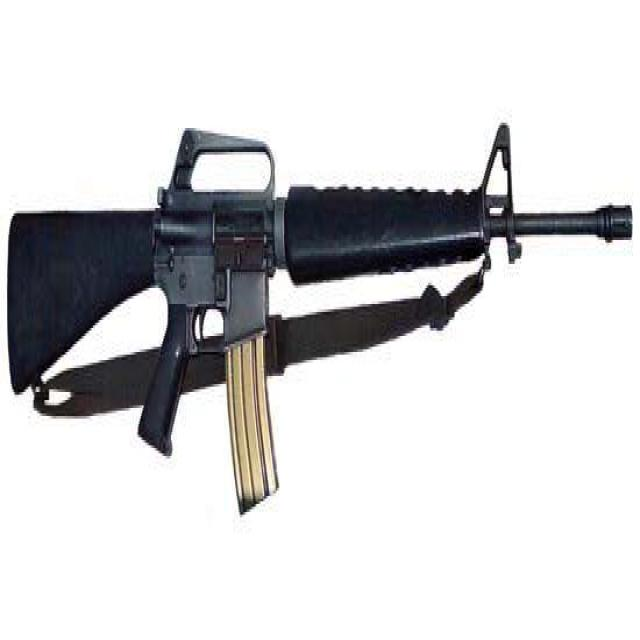weapon: (8, 115, 634, 520)
